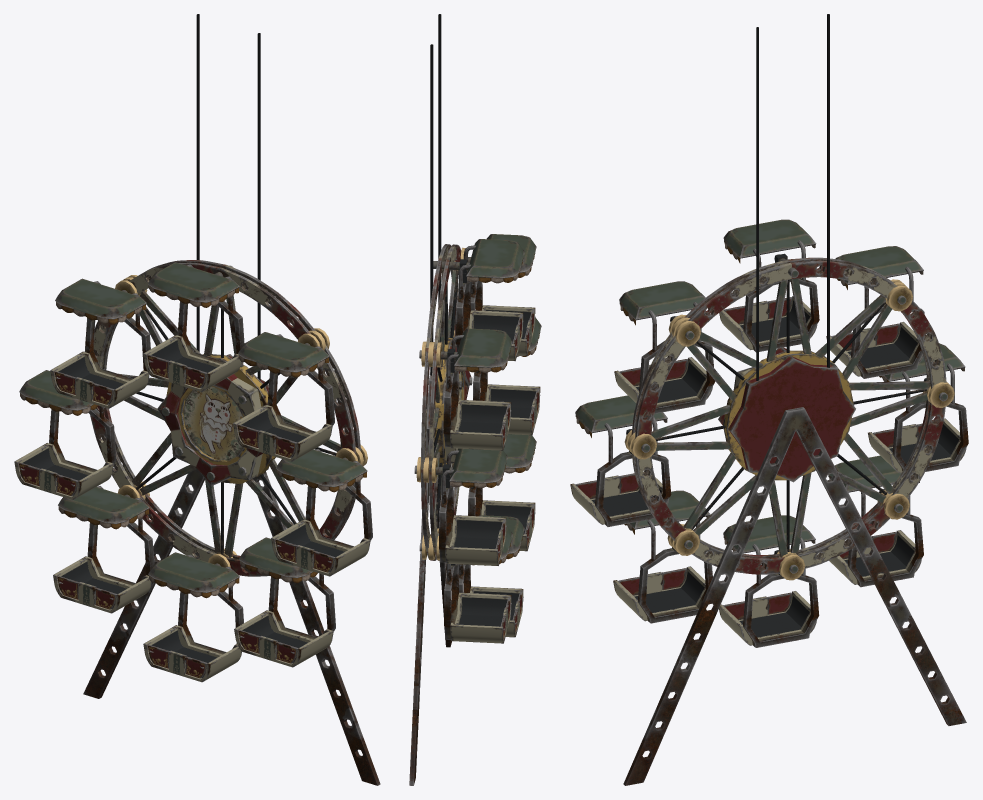
File: rueda_lev1.glb
The picture shows the model from 3 angles, left to right: view 1: azimuth 30°, elevation 25°; view 2: azimuth 150°, elevation 25°; view 3: azimuth 270°, elevation 25°; orthographic projection. The views are drawn at different scales.
Visible parts, largest first — view 1: wheelmain_low.001, wheelbase_low.001, basket_low.002, basket_low.003, basket_low.004, basket_low.001, basket_low.007, basket_low.006, basket_low.008, basket_low.005; view 2: basket_low.004, wheelmain_low.001, basket_low.005, wheelbase_low.001, basket_low.003, basket_low.006, basket_low.008, basket_low.001, basket_low.002, basket_low.007, spokeholder_low.004, spokeholder_low.005 (+1 smaller); view 3: wheelmain_low.001, wheelbase_low.001, basket_low.007, basket_low.003, basket_low.001, basket_low.002, basket_low.008, basket_low.004, basket_low.005, basket_low.006.
Part boxes in pixels (box(x1,y1,x2,y2)): wheelmain_low.001: box(90, 260, 360, 576); wheelbase_low.001: box(83, 14, 380, 785); basket_low.002: box(233, 332, 334, 461); basket_low.003: box(143, 262, 244, 391); basket_low.004: box(50, 278, 150, 408); basket_low.001: box(271, 449, 372, 576); basket_low.007: box(143, 552, 243, 682); basket_low.006: box(53, 486, 154, 613); basket_low.008: box(234, 537, 335, 667); basket_low.005: box(14, 370, 116, 499); basket_low.004: box(419, 328, 512, 450); wheelmain_low.001: box(421, 244, 463, 560); basket_low.005: box(414, 448, 507, 565); wheelbase_low.001: box(409, 14, 472, 785); basket_low.003: box(433, 239, 524, 361); basket_low.006: box(419, 525, 512, 643); basket_low.008: box(468, 434, 536, 551); basket_low.001: box(473, 317, 541, 435); basket_low.002: box(468, 234, 536, 356); basket_low.007: box(458, 515, 524, 637); spokeholder_low.004: box(421, 341, 442, 367); spokeholder_low.005: box(416, 457, 437, 482); wheelmain_low.001: box(631, 257, 946, 574); wheelbase_low.001: box(623, 14, 966, 785); basket_low.007: box(719, 515, 819, 647); basket_low.003: box(719, 219, 819, 352); basket_low.001: box(570, 395, 671, 526); basket_low.002: box(614, 281, 715, 413); basket_low.008: box(613, 490, 712, 623); basket_low.004: box(826, 246, 925, 378); basket_low.005: box(868, 343, 968, 473); basket_low.006: box(828, 455, 923, 587).
Bounding box in the file's own units: 48.85 × 160 × 79.14.
Materials: 1 (1 with a texture image).
